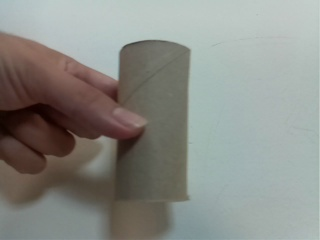rollo papel: (112, 38, 193, 207)
